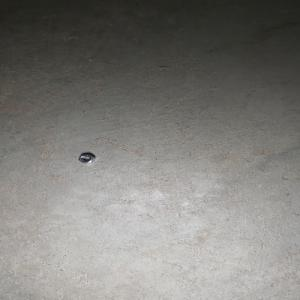Nut: (78, 154, 95, 164)
